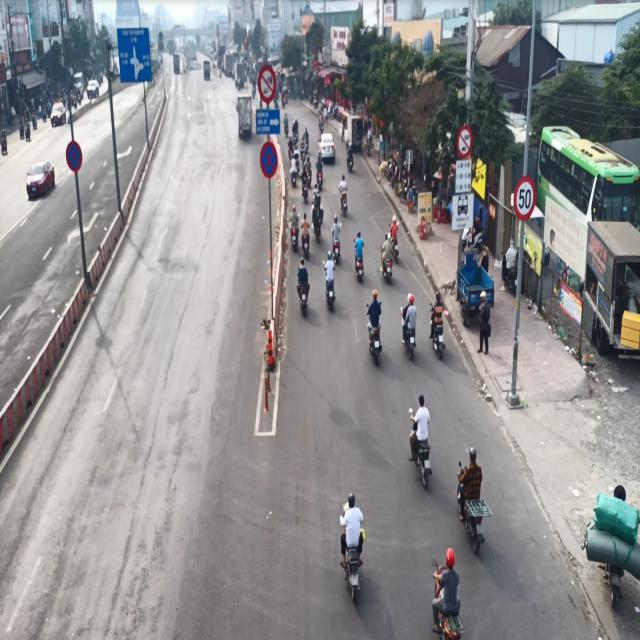motor: (334, 483, 368, 602), (454, 439, 487, 548), (426, 545, 462, 640), (408, 391, 438, 493), (398, 280, 420, 353), (362, 286, 382, 365), (427, 290, 450, 355), (321, 248, 338, 318), (296, 254, 315, 315)
